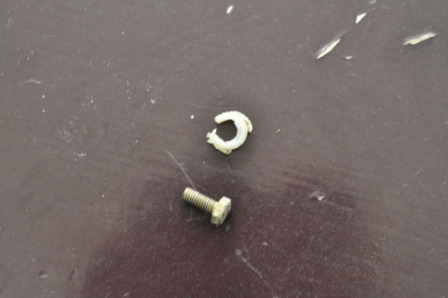bolt: (177, 179, 238, 229)
